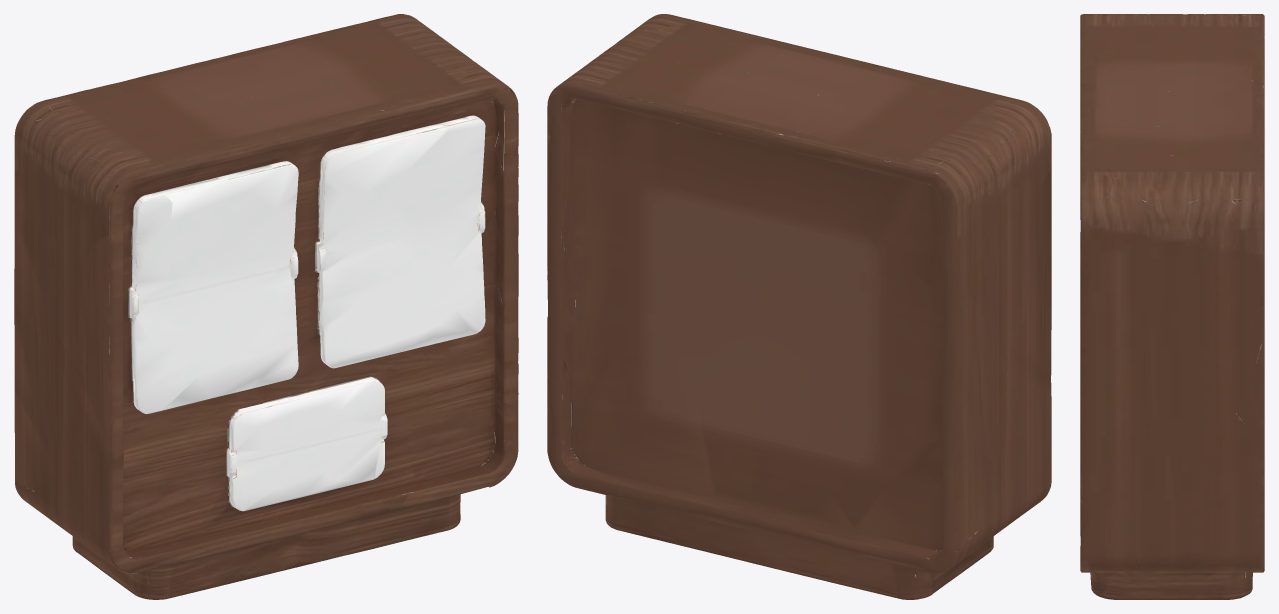
File: clock.glb
3 renders of one model, left to right at view 1: azimuth 30°, elevation 25°; view 2: azimuth 150°, elevation 25°; view 3: azimuth 270°, elevation 25°, orthographic. The views are drawn at different scales.
Parts seen in each view (by area): view 1: Mesh_0; view 2: Mesh_0; view 3: Mesh_0.
Part boxes in pixels (x1,y1,x2,y2): Mesh_0: (14, 14, 518, 599); Mesh_0: (547, 14, 1051, 599); Mesh_0: (1080, 14, 1264, 599).
Bounding box in the file's own units: 1.84 × 1.9 × 0.7452.
1 material, 1 textured.
